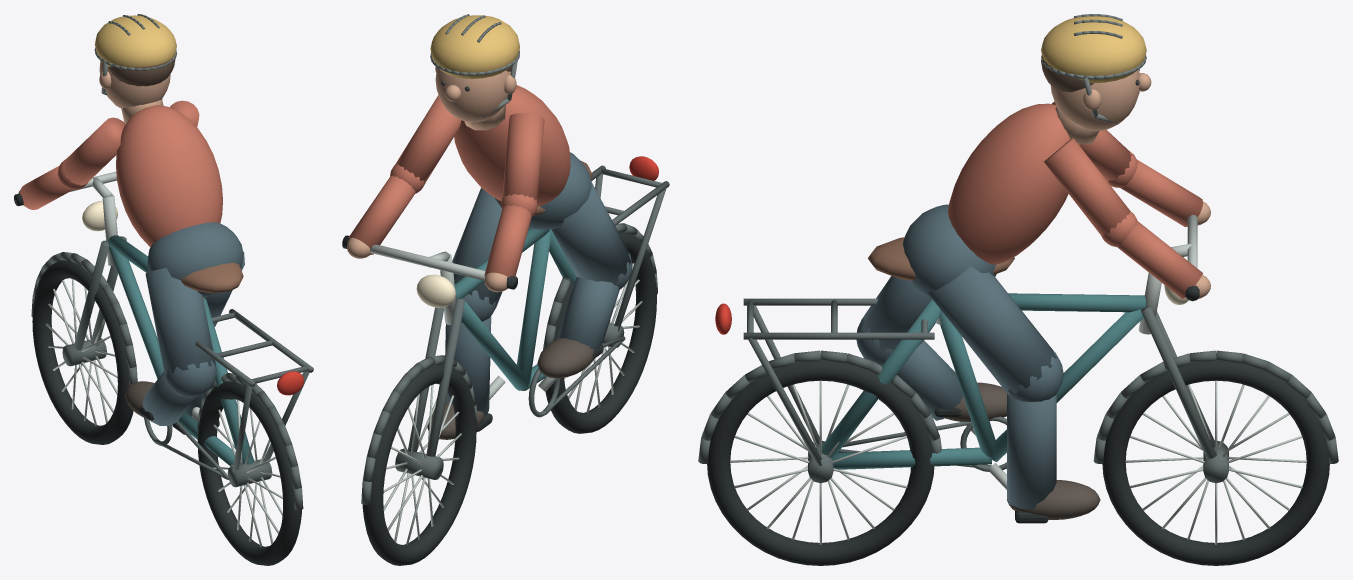
The model's file is cyclist-legacy-static-batched.glb.
The picture shows the model from 3 angles, left to right: view 1: azimuth 30°, elevation 25°; view 2: azimuth 150°, elevation 25°; view 3: azimuth 270°, elevation 25°; orthographic projection. The views are drawn at different scales.
Parts seen in each view (by area): view 1: static_Rider | jacket rust_opaque, static_Bike | rubber_opaque, static_Rider | trousers navy_opaque, static_Bike | dark steel_opaque, static_Bike | brushed alloy_opaque, static_Bike | petrol enamel_opaque, static_Rider | ochre helmet_opaque, static_Rider | skin_opaque, static_Bike | saddle brown_opaque, static_Rider | hair_opaque, static_Rider | helmet trim_opaque, static_Rider | shoe leather_opaque (+2 smaller); view 2: static_Rider | jacket rust_opaque, static_Rider | trousers navy_opaque, static_Bike | rubber_opaque, static_Bike | dark steel_opaque, static_Bike | brushed alloy_opaque, static_Bike | petrol enamel_opaque, static_Rider | ochre helmet_opaque, static_Rider | skin_opaque, static_Rider | shoe leather_opaque, static_Bike | headlamp_opaque, static_Rider | helmet trim_opaque, static_Bike | rear reflector_opaque; view 3: static_Bike | rubber_opaque, static_Rider | trousers navy_opaque, static_Rider | jacket rust_opaque, static_Bike | dark steel_opaque, static_Bike | petrol enamel_opaque, static_Bike | brushed alloy_opaque, static_Rider | ochre helmet_opaque, static_Rider | skin_opaque, static_Rider | shoe leather_opaque, static_Bike | saddle brown_opaque, static_Rider | helmet trim_opaque.
Part boxes in pixels (<box>): static_Rider | jacket rust_opaque: <box>20,100,222,247</box>; static_Bike | rubber_opaque: <box>14,193,301,565</box>; static_Rider | trousers navy_opaque: <box>142,222,244,425</box>; static_Bike | dark steel_opaque: <box>31,236,313,510</box>; static_Bike | brushed alloy_opaque: <box>45,171,282,546</box>; static_Bike | petrol enamel_opaque: <box>108,235,253,466</box>; static_Rider | ochre helmet_opaque: <box>94,15,176,67</box>; static_Rider | skin_opaque: <box>18,61,172,206</box>; static_Bike | saddle brown_opaque: <box>181,262,243,293</box>; static_Rider | hair_opaque: <box>108,58,175,86</box>; static_Rider | helmet trim_opaque: <box>94,14,176,95</box>; static_Rider | shoe leather_opaque: <box>125,381,154,419</box>; static_Rider | jacket rust_opaque: <box>348,85,570,277</box>; static_Rider | trousers navy_opaque: <box>445,152,632,416</box>; static_Bike | rubber_opaque: <box>342,232,656,565</box>; static_Bike | dark steel_opaque: <box>361,165,669,504</box>; static_Bike | brushed alloy_opaque: <box>370,244,642,545</box>; static_Bike | petrol enamel_opaque: <box>454,228,576,390</box>; static_Rider | ochre helmet_opaque: <box>430,15,519,78</box>; static_Rider | skin_opaque: <box>347,67,516,292</box>; static_Rider | shoe leather_opaque: <box>427,338,593,439</box>; static_Bike | headlamp_opaque: <box>416,274,455,307</box>; static_Rider | helmet trim_opaque: <box>430,14,519,117</box>; static_Bike | rear reflector_opaque: <box>629,156,658,180</box>; static_Bike | rubber_opaque: <box>707,285,1329,565</box>; static_Rider | trousers navy_opaque: <box>856,204,1063,509</box>; static_Rider | jacket rust_opaque: <box>947,101,1202,298</box>; static_Bike | dark steel_opaque: <box>698,298,1338,483</box>; static_Bike | petrol enamel_opaque: <box>818,293,1145,469</box>; static_Bike | brushed alloy_opaque: <box>730,214,1306,544</box>; static_Rider | ochre helmet_opaque: <box>1041,16,1146,83</box>; static_Rider | skin_opaque: <box>1050,69,1210,298</box>; static_Rider | shoe leather_opaque: <box>945,382,1100,519</box>; static_Bike | saddle brown_opaque: <box>868,237,1014,280</box>; static_Rider | helmet trim_opaque: <box>1041,14,1146,124</box>.
Bounding box in the file's own units: 0.64 × 1.8 × 1.91.
